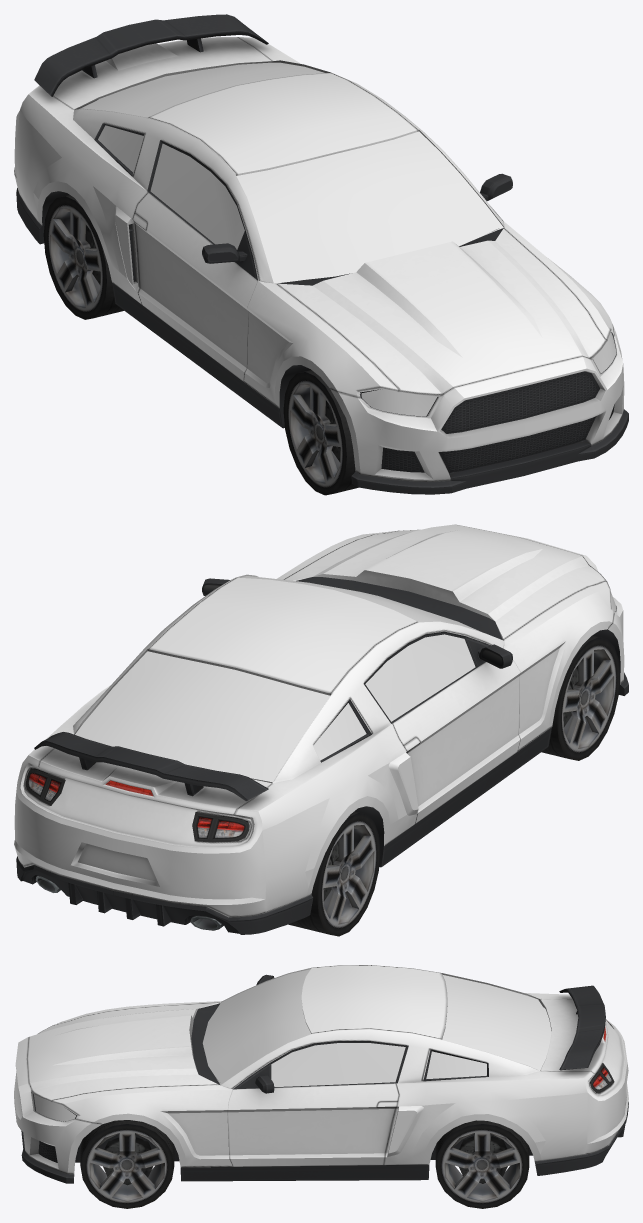
3 renders of one model, top to bottom at view 1: azimuth 30°, elevation 25°; view 2: azimuth 150°, elevation 25°; view 3: azimuth 270°, elevation 25°, orthographic. The views are drawn at different scales.
Parts seen in each view (by area): view 1: Body_13, Glass_13, Matte_13, Wheel_R.012, Wheel_Back_R.012, Glass_light.011; view 2: Body_13, Glass_13, Matte_13, Wheel_Back_R.012, Wheel_R.012, Taillight_13; view 3: Body_13, Glass_13, Matte_13, Wheel_L.012, Wheel_Back_L.012, Glass_light.011, Taillight_13.
Part boxes in pixels (left/top/right/bottom): Body_13: left=14, top=37, right=624, bottom=481; Glass_13: left=80, top=62, right=503, bottom=283; Matte_13: left=16, top=14, right=628, bottom=494; Wheel_R.012: left=283, top=370, right=358, bottom=495; Wheel_Back_R.012: left=43, top=195, right=123, bottom=319; Glass_light.011: left=361, top=332, right=616, bottom=416; Body_13: left=14, top=524, right=624, bottom=917; Glass_13: left=75, top=576, right=481, bottom=782; Matte_13: left=16, top=577, right=628, bottom=934; Wheel_Back_R.012: left=288, top=811, right=380, bottom=936; Wheel_R.012: left=541, top=635, right=620, bottom=760; Taillight_13: left=25, top=768, right=249, bottom=842; Body_13: left=14, top=965, right=628, bottom=1174; Glass_13: left=202, top=969, right=551, bottom=1086; Matte_13: left=21, top=974, right=628, bottom=1185; Wheel_L.012: left=80, top=1120, right=174, bottom=1208; Wheel_Back_L.012: left=435, top=1120, right=529, bottom=1208; Glass_light.011: left=34, top=1094, right=75, bottom=1121; Taillight_13: left=590, top=1019, right=614, bottom=1092.
Size of the model in its own units: 205 by 143 by 478.
